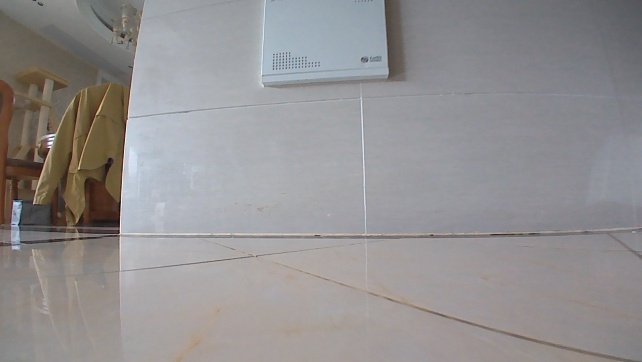dining_table: (0, 74, 129, 227)
